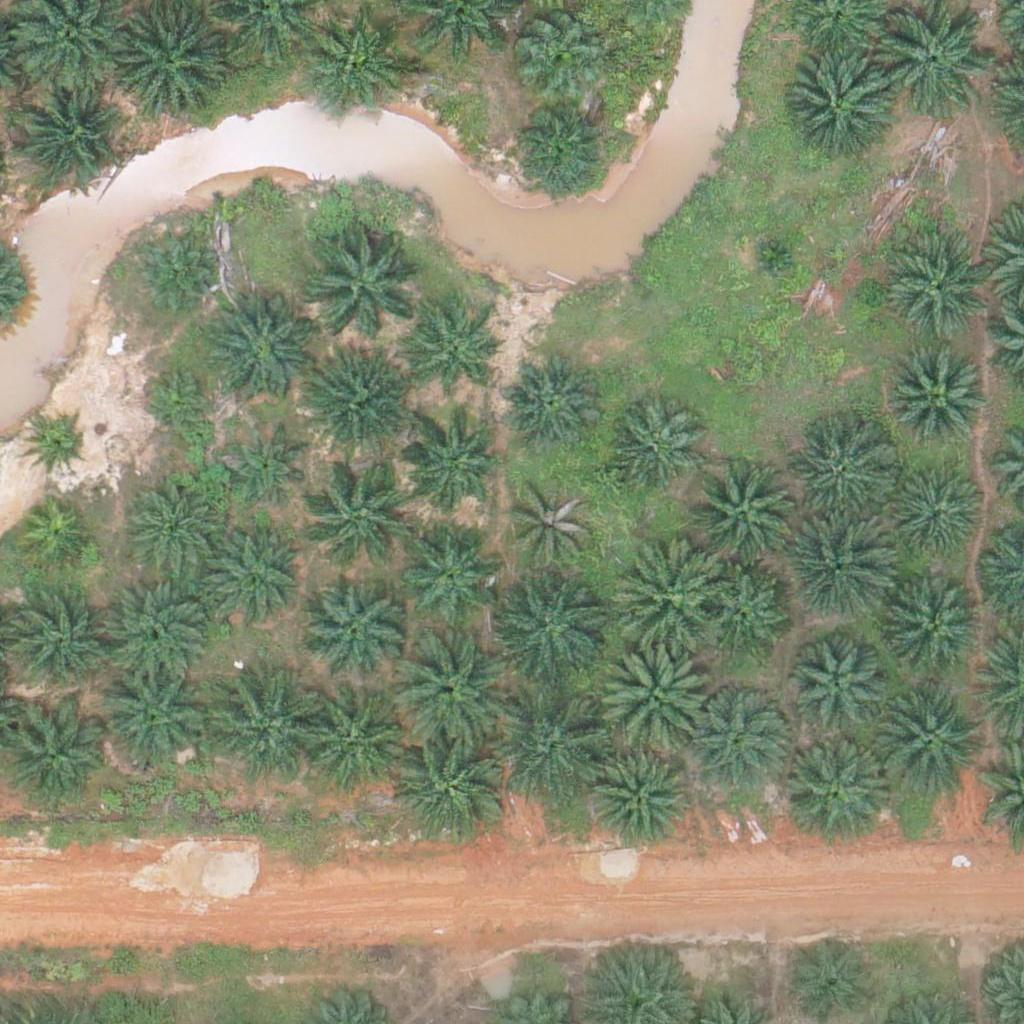Kelapa_Sawit: (783, 733, 896, 847), (870, 685, 983, 799), (110, 5, 223, 119), (781, 54, 894, 167), (782, 512, 895, 625), (394, 733, 507, 846), (307, 223, 420, 336), (201, 296, 314, 409), (99, 574, 212, 687), (96, 662, 209, 775), (306, 454, 418, 568), (204, 671, 316, 785), (873, 2, 985, 115), (687, 456, 799, 569), (610, 539, 722, 652), (597, 637, 709, 750), (499, 692, 611, 805), (495, 571, 607, 684), (393, 633, 505, 746), (294, 690, 406, 803), (297, 351, 409, 464), (788, 642, 888, 743), (689, 686, 789, 787), (603, 397, 703, 498), (399, 417, 499, 518), (301, 579, 401, 680), (201, 530, 301, 631), (9, 596, 109, 697), (888, 242, 988, 342), (889, 351, 989, 451), (889, 467, 989, 567), (885, 583, 985, 683), (791, 427, 891, 527), (588, 749, 688, 849), (509, 99, 609, 199), (500, 352, 600, 452), (399, 521, 499, 621), (306, 20, 406, 120), (16, 85, 116, 185), (124, 478, 224, 578), (699, 570, 787, 658), (513, 6, 601, 94), (224, 424, 312, 512), (129, 232, 217, 320), (509, 483, 596, 571), (411, 313, 498, 401), (141, 363, 216, 438), (17, 501, 92, 576), (26, 414, 89, 477), (746, 229, 796, 280)
